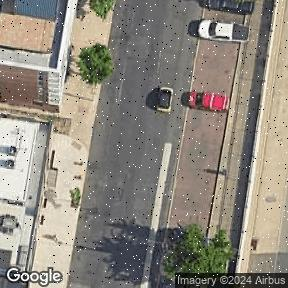vegetation: (163, 224, 234, 275), (75, 42, 115, 87), (91, 0, 115, 18)
